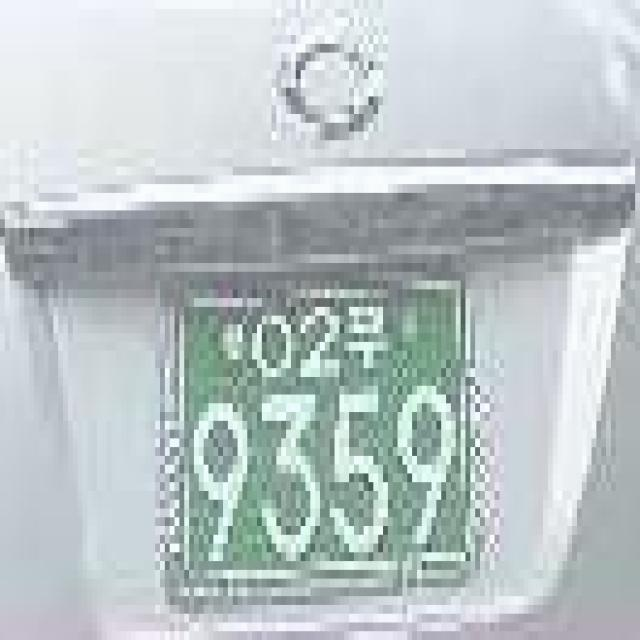illegal_plate: (152, 257, 495, 624)
